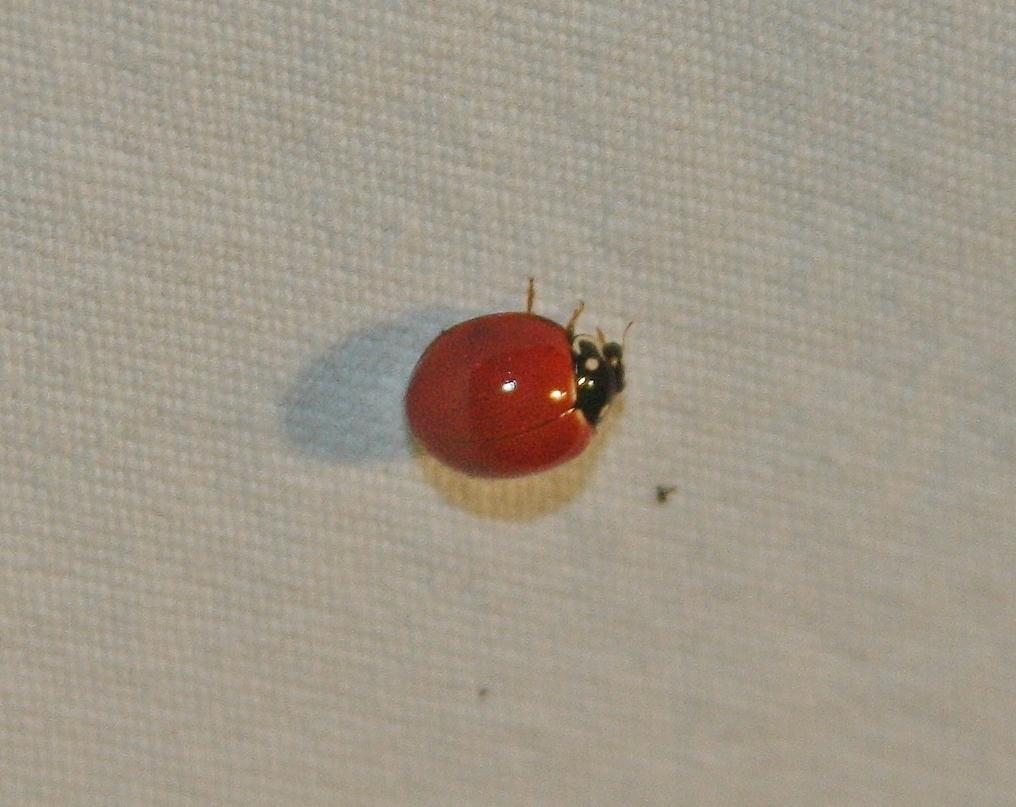ladybug: (403, 273, 641, 483)
